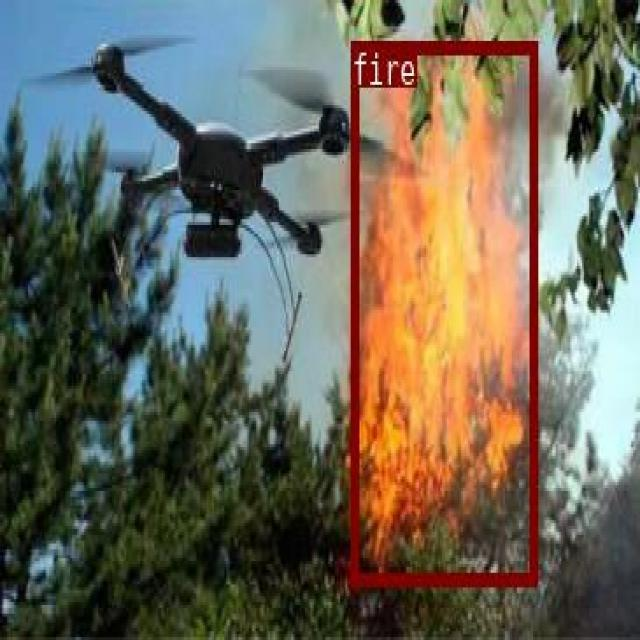fire: (349, 40, 535, 584)
